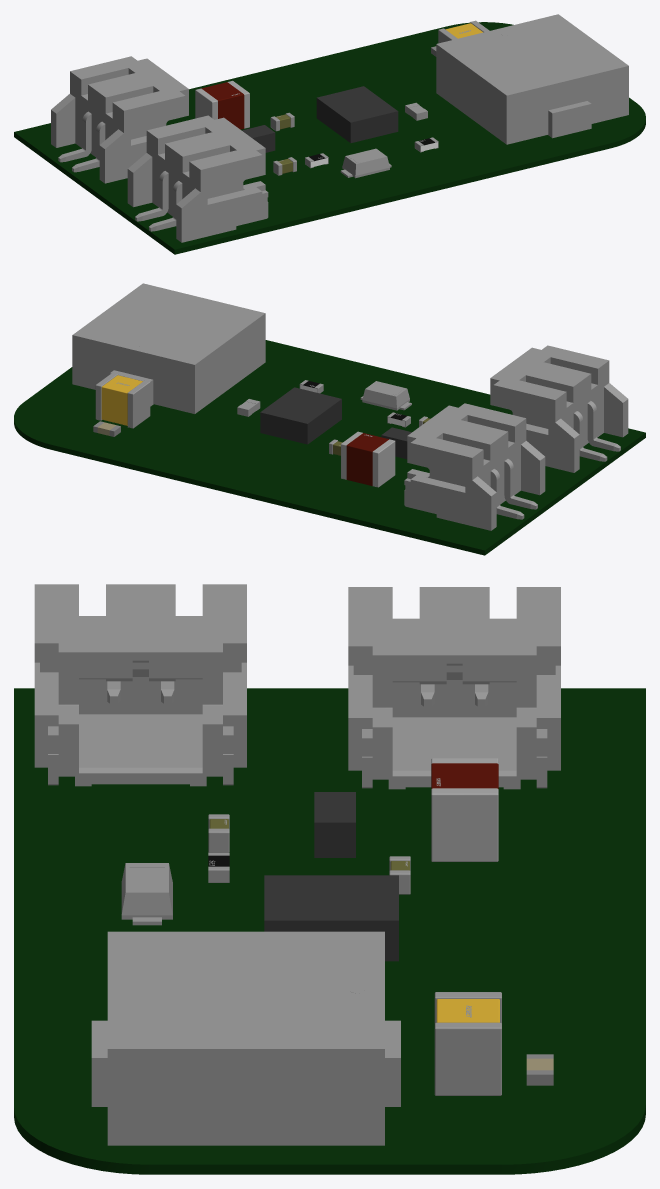
File: buck-converter.glb
The picture shows the model from 3 angles, top to bottom: view 1: azimuth 30°, elevation 25°; view 2: azimuth 150°, elevation 25°; view 3: azimuth 270°, elevation 25°; orthographic projection. The views are drawn at different scales.
Parts seen in each view (by area): view 1: part, Open CASCADE STEP translator 7.5 2.1.1, Extruded, body, side; view 2: part, Open CASCADE STEP translator 7.5 2.1.1, Extruded, body, Body, side; view 3: Open CASCADE STEP translator 7.5 2.1.1, part, Extruded, side, body, Body.
Part boxes in pixels (left/top/right/bottom): part: left=51, top=14, right=628, bottom=242; Open CASCADE STEP translator 7.5 2.1.1: left=14, top=22, right=645, bottom=254; Extruded: left=242, top=86, right=398, bottom=152; body: left=201, top=82, right=244, bottom=129; side: left=195, top=80, right=249, bottom=128; part: left=72, top=283, right=628, bottom=530; Open CASCADE STEP translator 7.5 2.1.1: left=14, top=340, right=645, bottom=555; Extruded: left=260, top=387, right=411, bottom=459; body: left=346, top=433, right=388, bottom=485; Body: left=101, top=375, right=142, bottom=425; side: left=341, top=431, right=395, bottom=487; Open CASCADE STEP translator 7.5 2.1.1: left=14, top=688, right=645, bottom=1174; part: left=34, top=584, right=560, bottom=1145; Extruded: left=264, top=792, right=398, bottom=961; side: left=431, top=758, right=498, bottom=861; body: left=431, top=763, right=498, bottom=788; Body: left=436, top=999, right=499, bottom=1022.
Size of the model in its own units: 0.0419 by 0.00591 by 0.0235.
